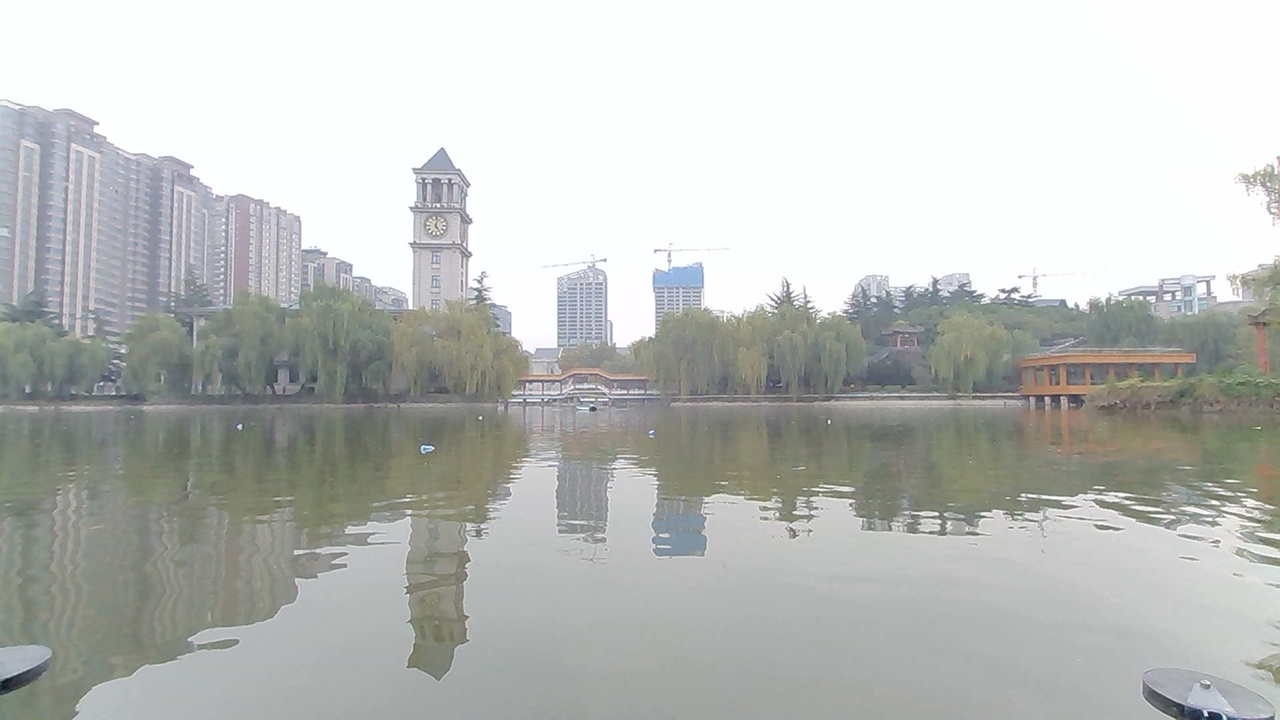bottle: (634, 418, 668, 445), (227, 411, 265, 435), (811, 408, 841, 434), (412, 443, 449, 464), (466, 404, 495, 426)
